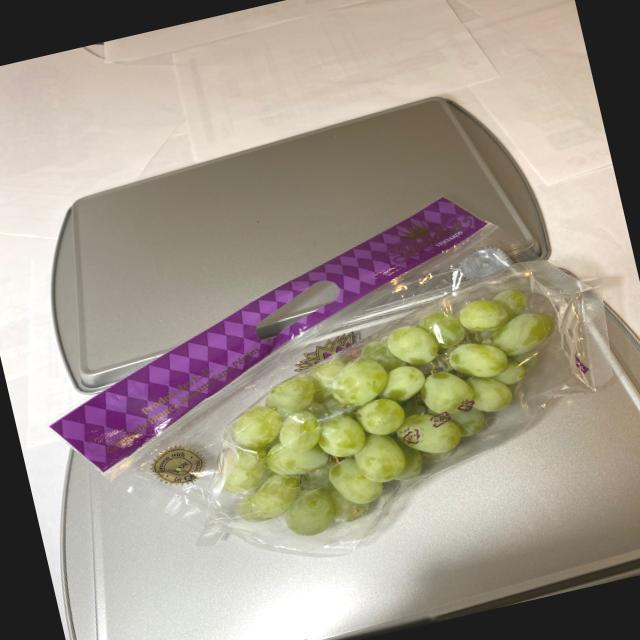grapes: (196, 262, 606, 544)
